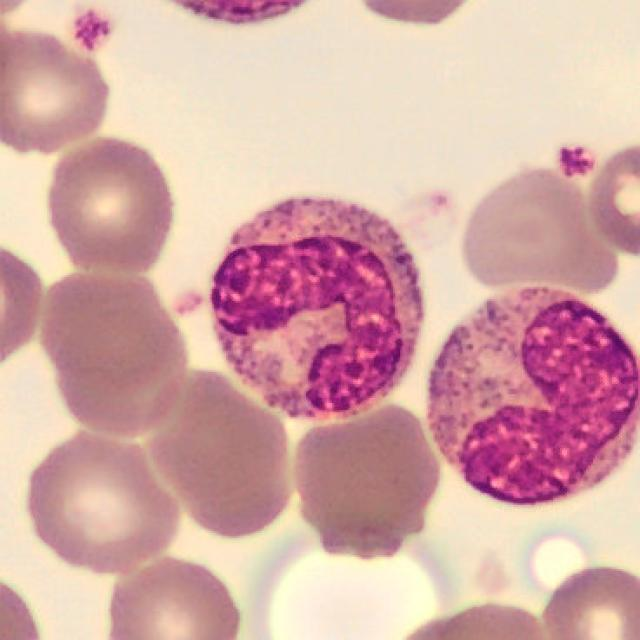Bastonete: (209, 197, 424, 420), (424, 289, 640, 507)
